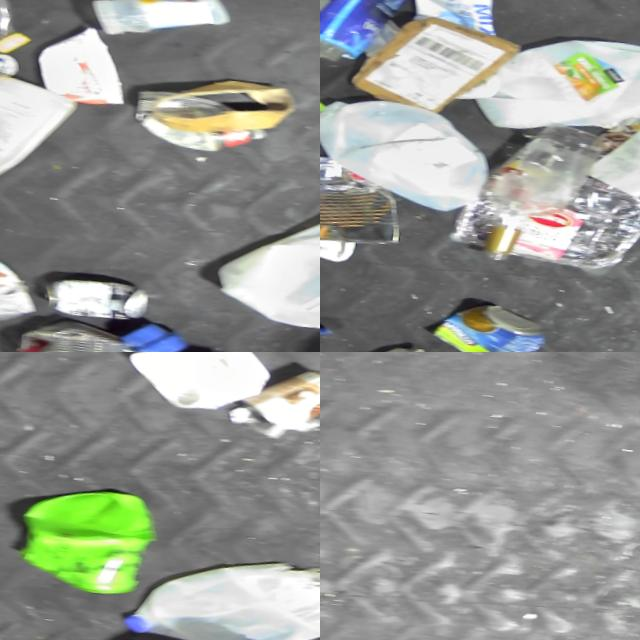can: (320, 146, 406, 253), (224, 362, 320, 451), (422, 296, 547, 352), (42, 273, 152, 329), (7, 313, 157, 352)
milk_jug: (320, 89, 494, 223), (468, 26, 640, 153), (120, 544, 320, 640), (207, 191, 320, 352), (0, 62, 79, 204), (120, 352, 273, 424)
non_white_jug: (7, 481, 158, 604), (0, 218, 40, 331)
plastic_bottle: (478, 117, 612, 236)
